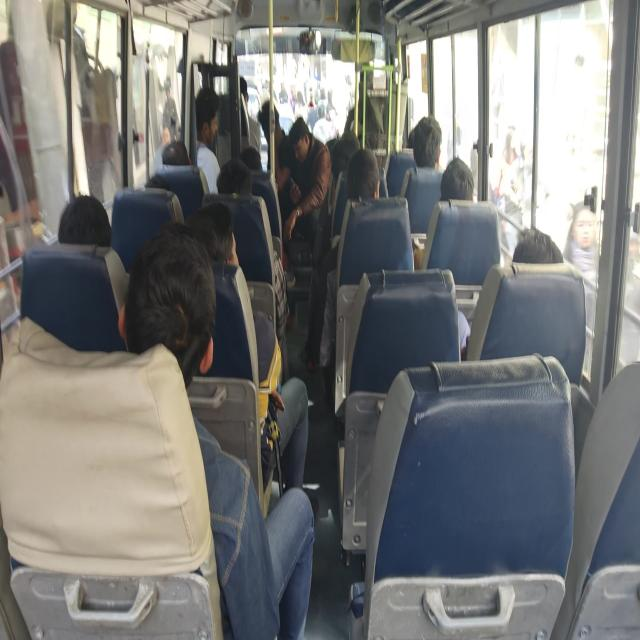person: (118, 222, 315, 638), (188, 200, 310, 494), (300, 147, 381, 371), (58, 194, 130, 315), (281, 116, 332, 250), (256, 99, 294, 196), (563, 200, 600, 284), (195, 86, 221, 195), (57, 194, 111, 246), (344, 80, 379, 141), (512, 227, 564, 264), (408, 114, 442, 170), (239, 75, 261, 153), (439, 157, 474, 201), (161, 75, 180, 143), (161, 139, 191, 166)
